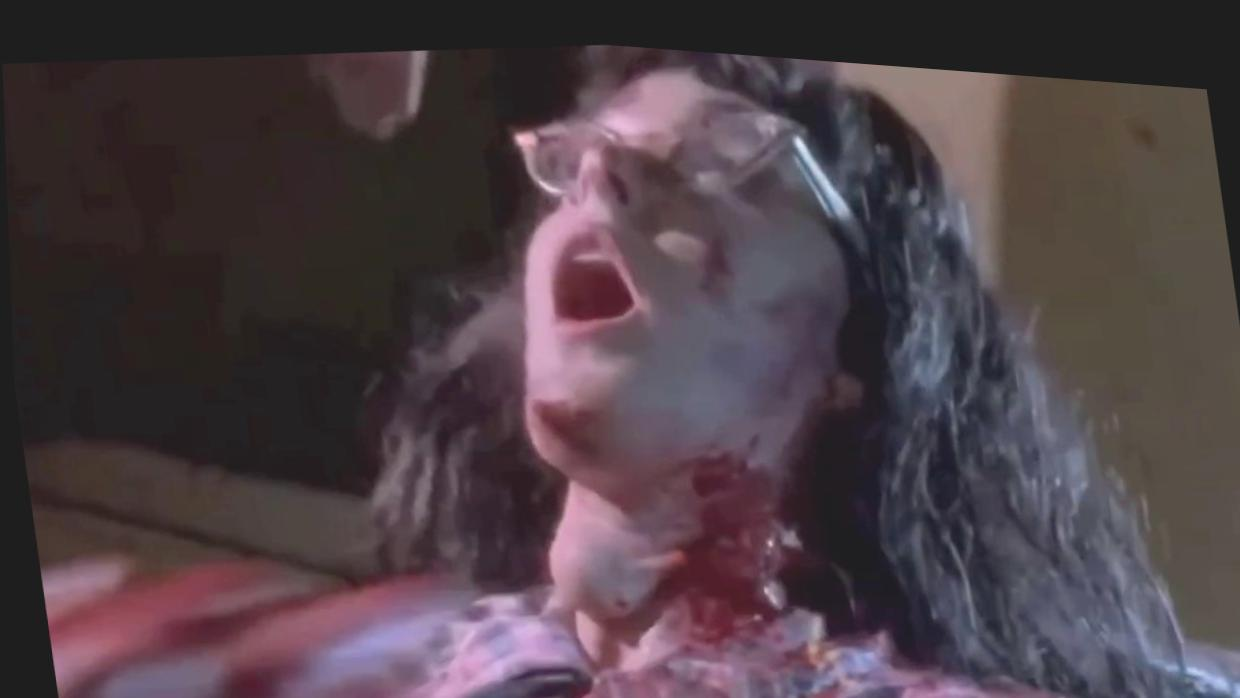Fire: (521, 201, 1087, 698), (38, 555, 468, 698), (652, 218, 732, 284)
